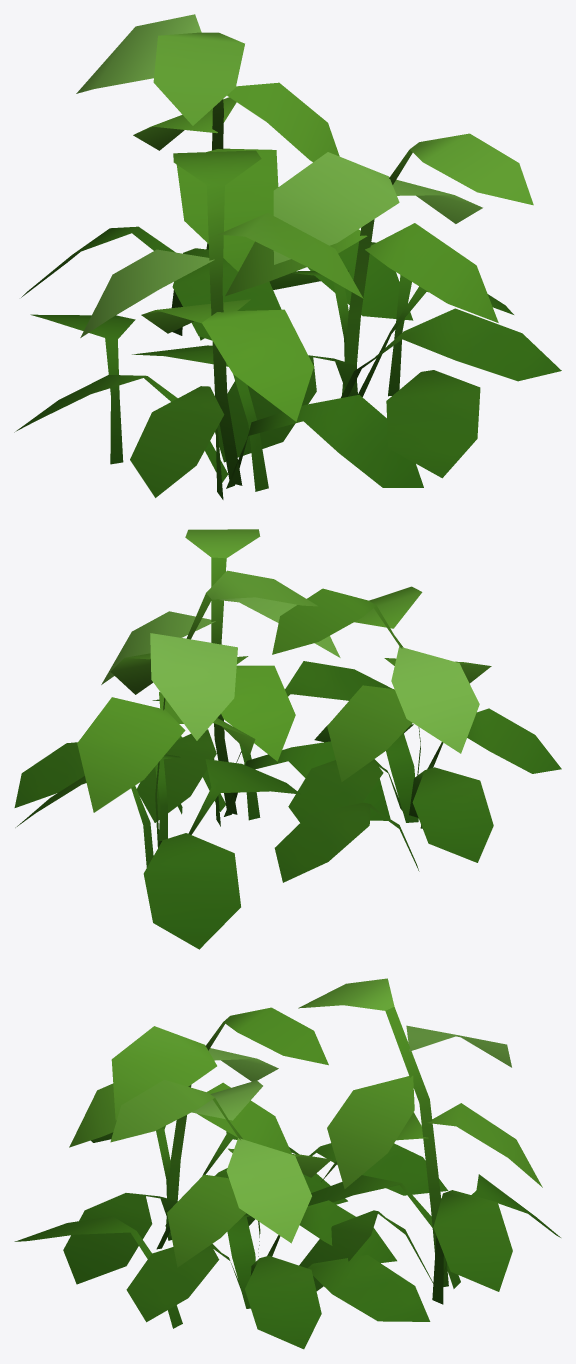
File: SM_Plant_01.fbx
3 views of the same model, one above another, from view 1: azimuth 30°, elevation 25°; view 2: azimuth 150°, elevation 25°; view 3: azimuth 270°, elevation 25° (orthographic). The views are drawn at different scales.
Visible parts, largest first — view 1: SM_Plant_01; view 2: SM_Plant_01; view 3: SM_Plant_01.
Boxes of the visible parts, x1=… form: SM_Plant_01: x1=14, y1=14, x2=561, y2=499; SM_Plant_01: x1=14, y1=529, x2=561, y2=949; SM_Plant_01: x1=14, y1=978, x2=560, y2=1349.
Size of the model in its own units: 0.8841 by 0.5945 by 1.02.
